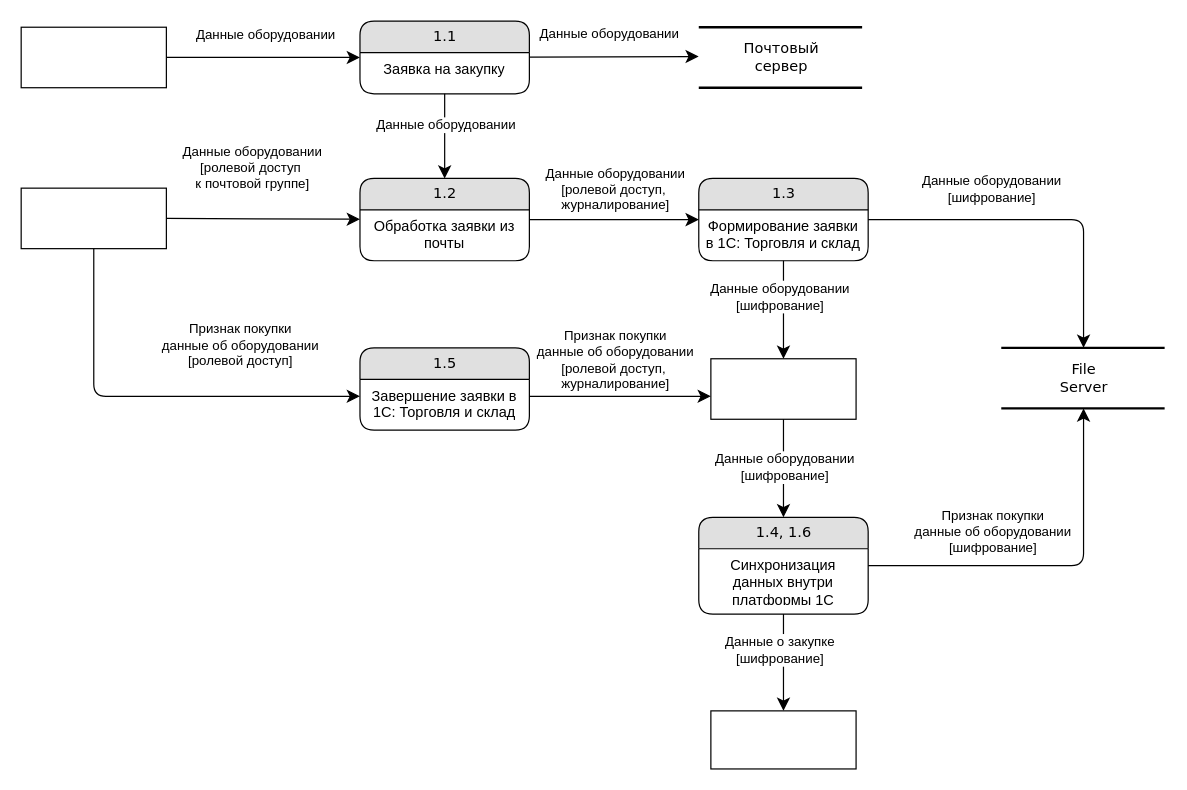
Image size: 1187x790. Some labels were removed from this diagram. The centre of each missing label's shape, as x and y in pixels:
"1С: Бухгалтерия" goes at point 783,739.
"1С: Торговля и склад" goes at point 783,388.
"Врач" goes at point 93,57.
"Сотрудник склада" goes at point 93,218.
